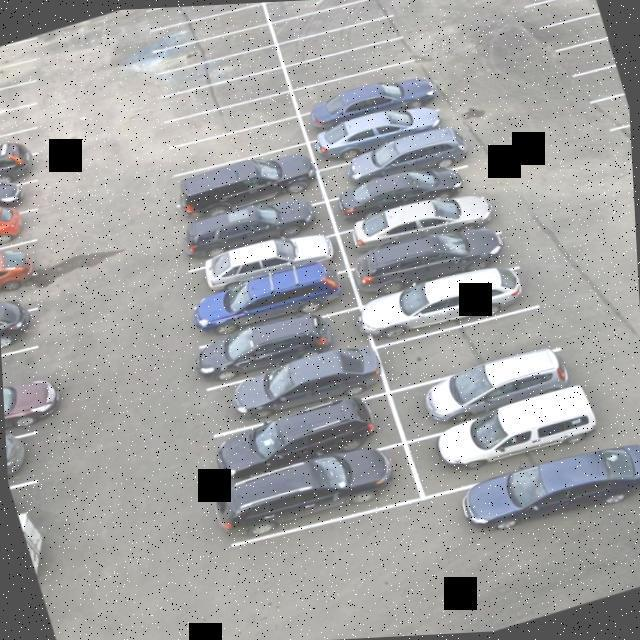car: (214, 382, 408, 492), (224, 442, 424, 548), (408, 388, 606, 495), (200, 338, 383, 438), (390, 342, 575, 436), (192, 298, 370, 391), (362, 255, 540, 346), (190, 257, 356, 353), (344, 215, 520, 302), (343, 175, 510, 256), (178, 225, 338, 309), (312, 126, 482, 203), (314, 153, 482, 230), (175, 198, 333, 276), (302, 96, 456, 172), (296, 70, 442, 144), (172, 162, 318, 234), (2, 370, 64, 440), (1, 334, 52, 396), (0, 156, 41, 227), (0, 306, 48, 364), (0, 193, 34, 266), (0, 139, 34, 206), (0, 239, 37, 294), (0, 274, 35, 331)
free: (369, 296, 569, 393), (160, 105, 310, 183), (166, 136, 314, 206), (153, 84, 295, 156), (283, 27, 430, 91), (152, 37, 289, 101), (154, 61, 293, 124), (278, 5, 414, 68), (292, 48, 432, 108), (154, 18, 278, 78), (156, 2, 274, 55), (270, 0, 381, 45), (148, 2, 262, 36), (0, 91, 40, 161), (267, 0, 388, 23), (548, 17, 608, 58), (0, 38, 36, 91), (572, 37, 616, 78), (0, 125, 29, 179), (0, 75, 27, 131), (0, 56, 29, 108), (544, 0, 599, 26), (0, 38, 31, 72), (520, 0, 592, 9)
